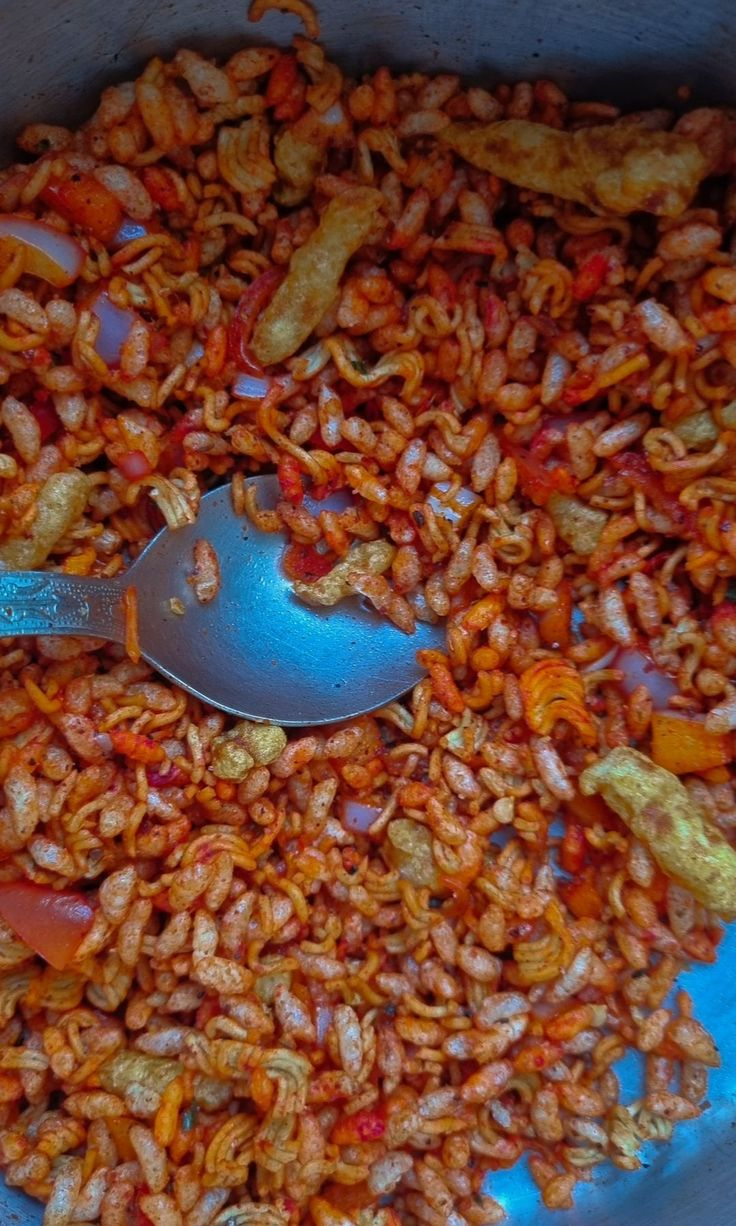chatpate: (15, 110, 692, 1178)
